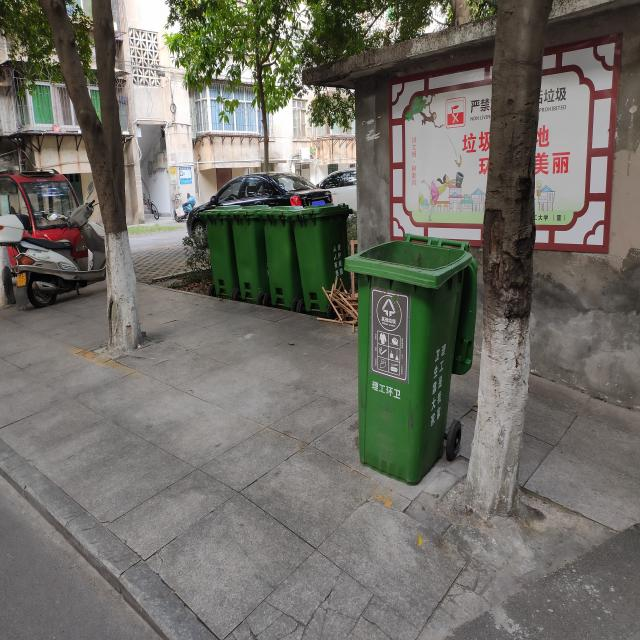ash bin: (342, 232, 476, 484), (288, 203, 352, 318), (258, 204, 304, 311), (228, 204, 269, 305), (199, 203, 240, 299)
bicycle: (143, 193, 159, 219)
car: (185, 170, 332, 249), (317, 166, 357, 211)
motorbike: (5, 182, 106, 307), (172, 185, 196, 222)
